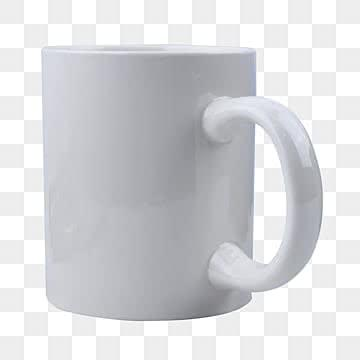cup: (42, 45, 321, 319)
